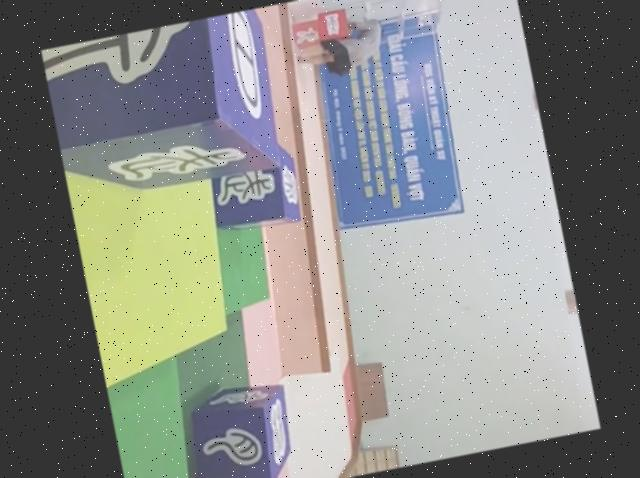R2 Fake Blue: (40, 7, 290, 207), (176, 378, 299, 478), (198, 142, 305, 241)
